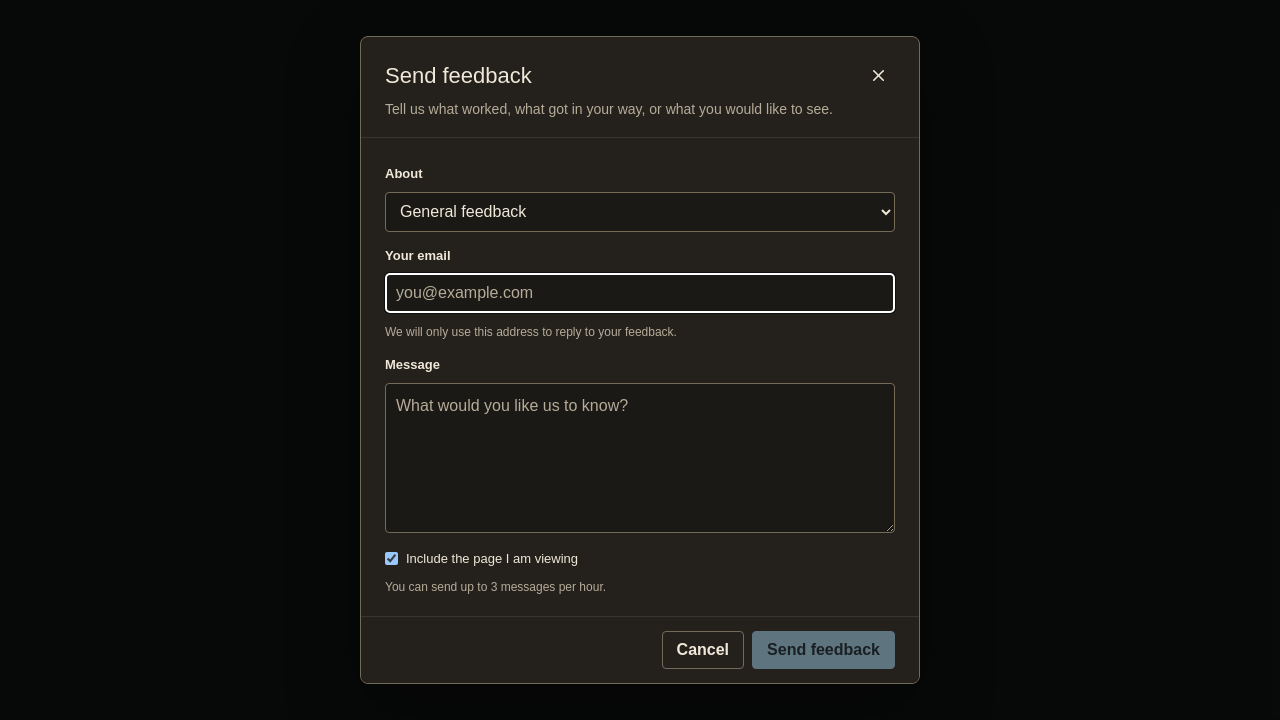
Test: FeedbackDialog › shows the server's rate-limit message and preserves the draft
The width and height of the screenshot is (1280, 720).
Type "reader@example.test" into the field labelled "Your email" at [640, 293], box [385,273,895,313]
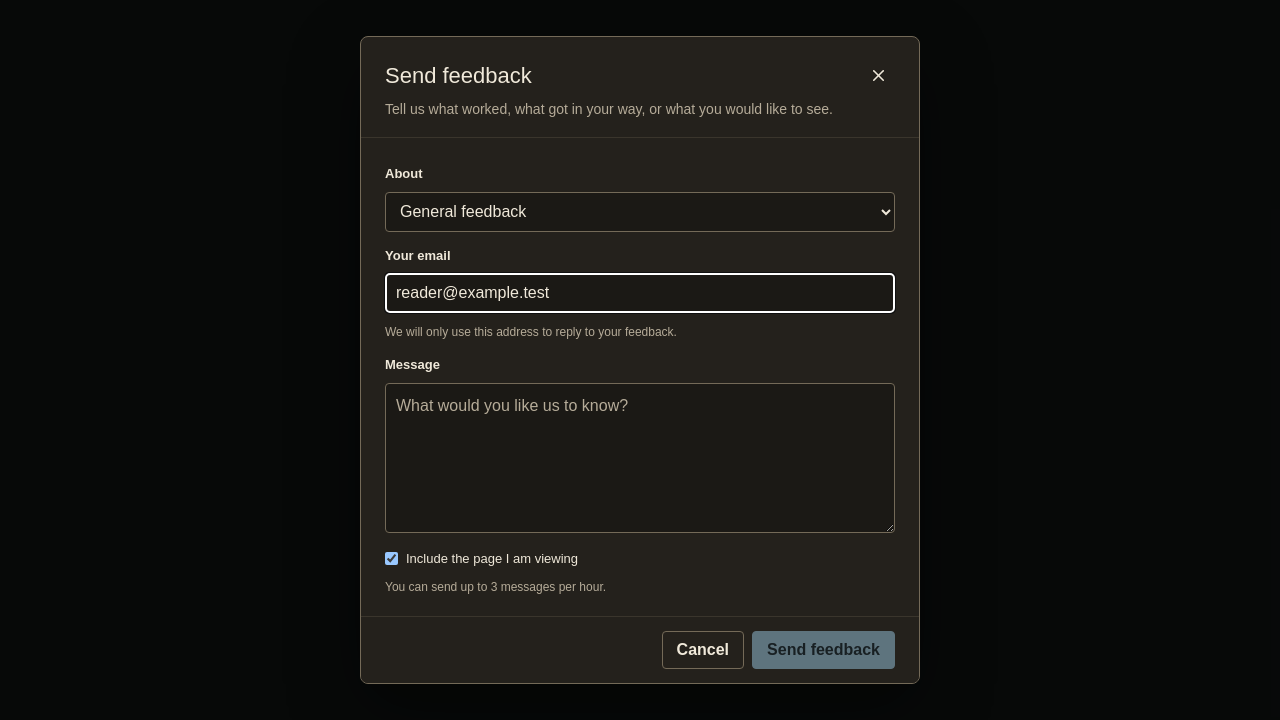
Type "One more note." into the text box labelled "Message" at [640, 458], box [385,383,895,533]
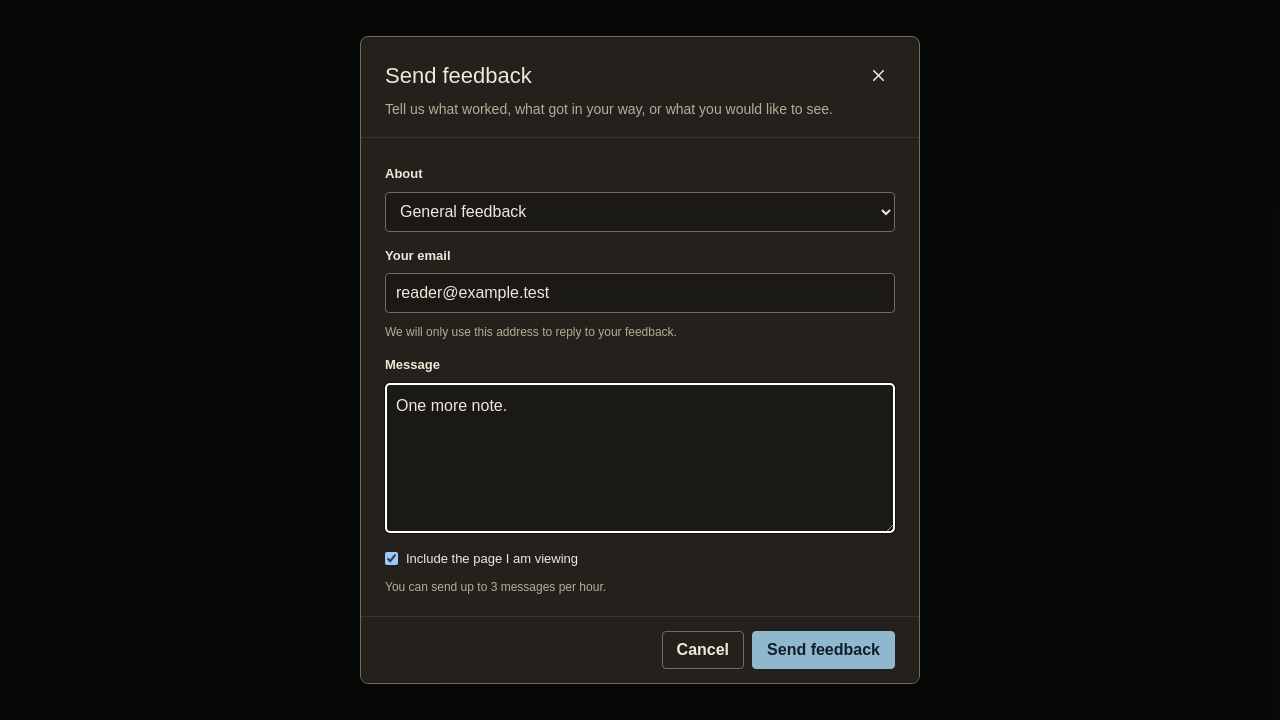
Click the button "Send feedback" at [824, 650], box [752,631,895,669]
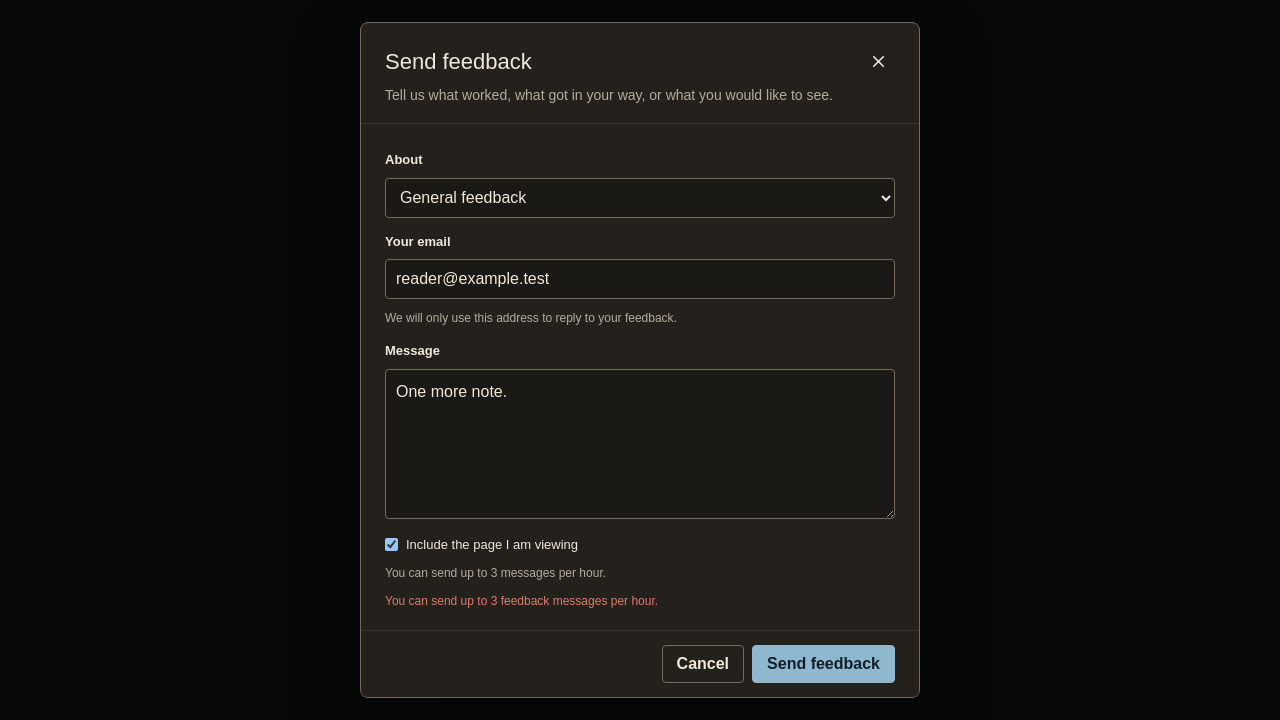
Check: the message reads "You can send up to 3 feedback messages per hour.", box [385,594,658,608]
